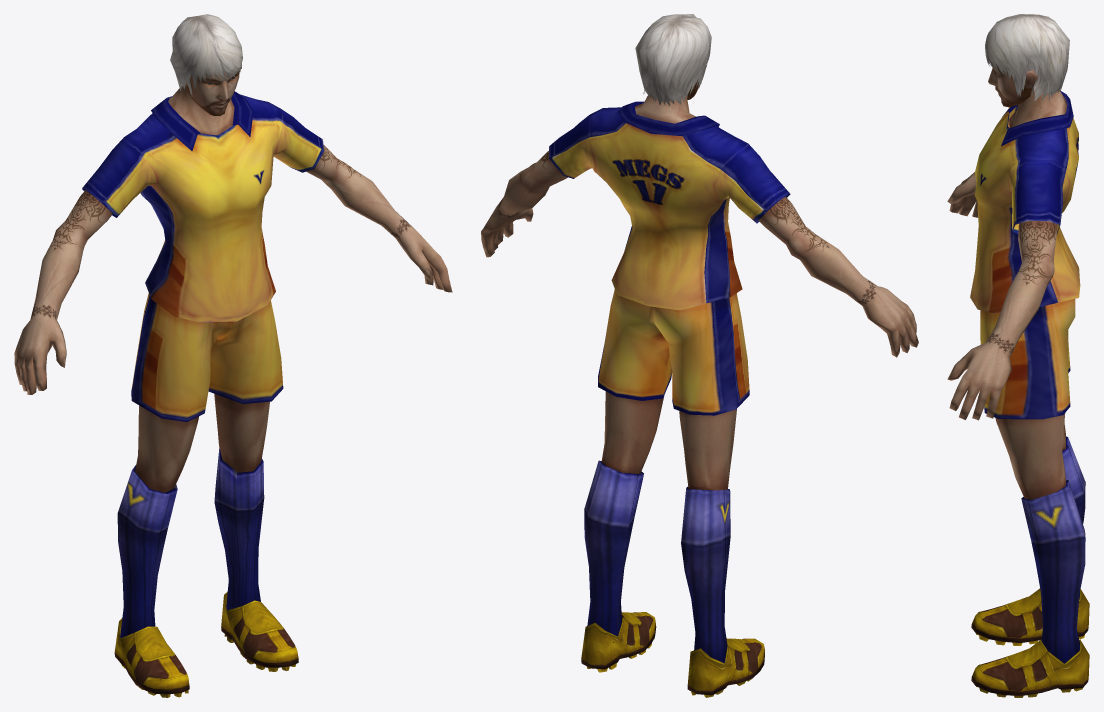
File: haha.obj
3 views of the same model, side by side, from view 1: azimuth 30°, elevation 25°; view 2: azimuth 150°, elevation 25°; view 3: azimuth 270°, elevation 25° (orthographic).
Visible parts, largest first — view 1: outfit soccer_player shirt1, shorts outfit soccer_player, soccer_player body2 arms1, outfit soccer_player socks, outfit soccer_player shoes, soccer_player body2 legs, soccer_player body2 hair, soccer_player body2 neck, soccer_player face body2; view 2: outfit soccer_player shirt1, shorts outfit soccer_player, outfit soccer_player socks, soccer_player body2 arms1, soccer_player body2 legs, outfit soccer_player shoes, soccer_player body2 hair, soccer_player body2 neck; view 3: outfit soccer_player shirt1, soccer_player body2 arms1, outfit soccer_player socks, outfit soccer_player shoes, shorts outfit soccer_player, soccer_player body2 hair, soccer_player body2 legs, soccer_player body2 neck, soccer_player face body2.
Part boxes in pixels (box(x1,y1,x2,y2)): outfit soccer_player shirt1: box(82, 91, 324, 322); shorts outfit soccer_player: box(131, 293, 283, 421); soccer_player body2 arms1: box(14, 145, 452, 394); outfit soccer_player socks: box(117, 448, 264, 637); outfit soccer_player shoes: box(114, 592, 298, 697); soccer_player body2 legs: box(135, 393, 269, 492); soccer_player body2 hair: box(170, 14, 242, 96); soccer_player body2 neck: box(168, 85, 234, 135); soccer_player face body2: box(185, 67, 240, 115); outfit soccer_player shirt1: box(549, 101, 790, 310); shorts outfit soccer_player: box(598, 289, 749, 415); outfit soccer_player socks: box(584, 460, 730, 662); soccer_player body2 arms1: box(481, 151, 918, 357); soccer_player body2 legs: box(601, 391, 736, 490); outfit soccer_player shoes: box(581, 612, 764, 697); soccer_player body2 hair: box(635, 14, 711, 105); soccer_player body2 neck: box(634, 95, 695, 123); outfit soccer_player shirt1: box(970, 90, 1080, 312); soccer_player body2 arms1: box(947, 172, 1057, 420); outfit soccer_player socks: box(1021, 436, 1085, 663); outfit soccer_player shoes: box(971, 588, 1089, 697); shorts outfit soccer_player: box(980, 299, 1075, 419); soccer_player body2 hair: box(985, 14, 1069, 101); soccer_player body2 legs: box(995, 413, 1065, 499); soccer_player body2 neck: box(1009, 89, 1066, 128); soccer_player face body2: box(988, 63, 1038, 107).
Size of the model in its own units: 1.18 by 1.73 by 0.3451.
5 materials, 5 textured.
